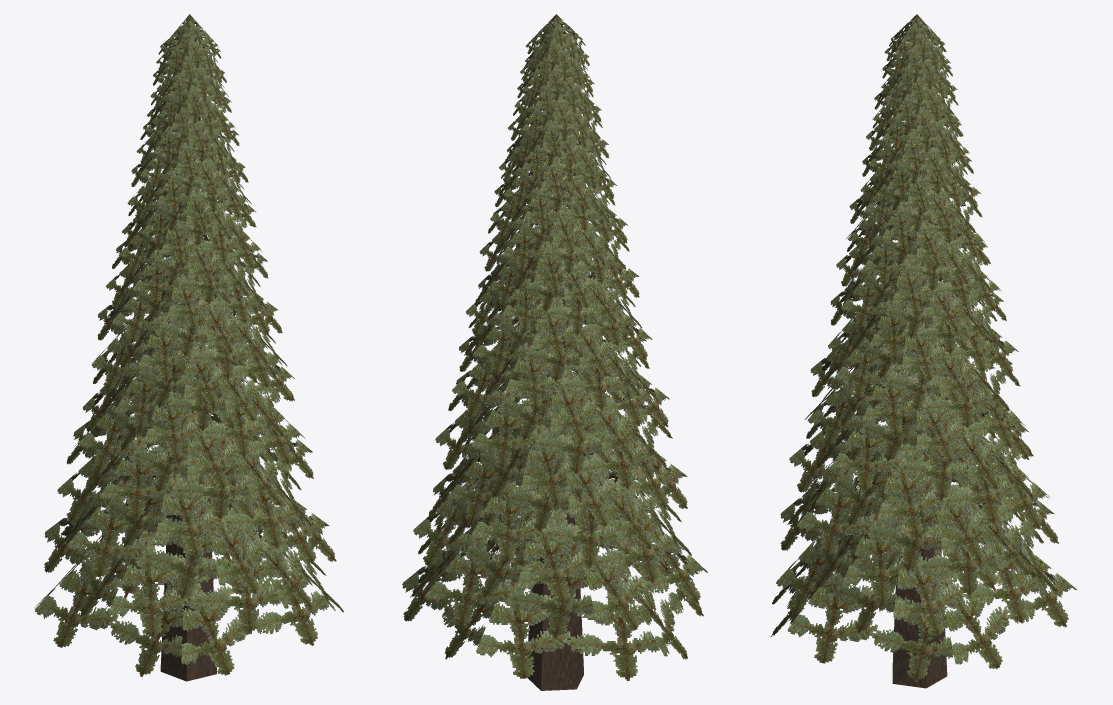
Rendered from pine_tree.glb.
The picture shows the model from 3 angles, left to right: view 1: azimuth 30°, elevation 25°; view 2: azimuth 150°, elevation 25°; view 3: azimuth 270°, elevation 25°; orthographic projection.
Parts seen in each view (by area): view 1: PineTree; view 2: PineTree; view 3: PineTree.
Boxes of the visible parts, x1,y1,x2,y2 form: PineTree: (34, 14, 343, 681); PineTree: (402, 14, 708, 690); PineTree: (770, 14, 1076, 688).
Bounding box in the file's own units: 5.74 × 12.07 × 5.64.
Materials: 2 (2 with a texture image).
